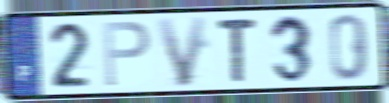0: (327, 11, 369, 83)
2: (49, 20, 98, 92)
3: (269, 11, 320, 86)
P: (101, 19, 152, 89)
T: (215, 16, 259, 85)
V: (154, 14, 210, 90)
